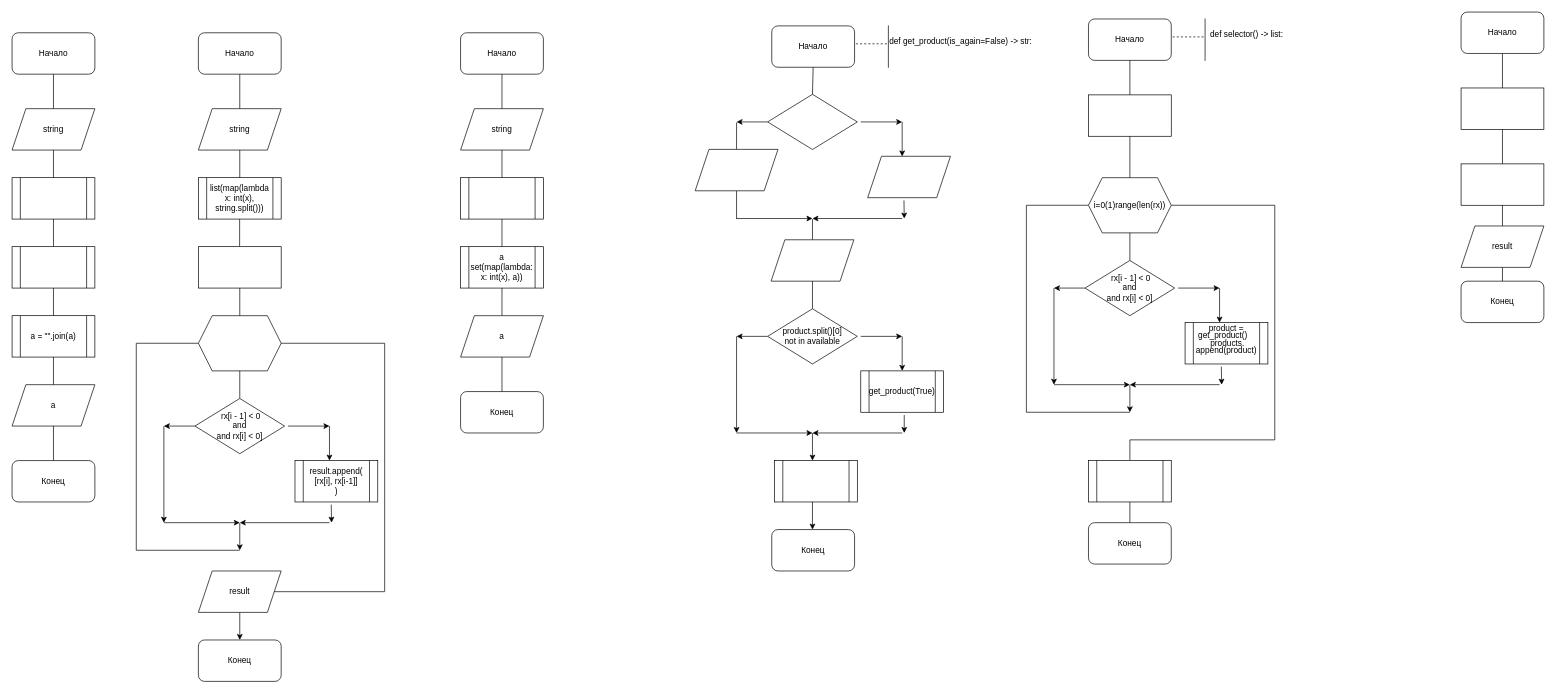
Some shapes in this 1556 by 693 pixel diagram are drawn without their labels. The centre of each missing label's shape, as x and y in pixels:
a = filter(lambda x: x != 'a', string ): point (53, 198)
a = list(a): point (53, 267)
a = string.split(): point (501, 198)
available = { "hello1": 10, "hello2": 20, }: point (1502, 108)
i=0(1)range(1, len(rx)): point (239, 343)
is_again: point (812, 122)
product: point (812, 260)
products = list(): point (1129, 115)
result = []: point (239, 267)
return product: point (815, 481)
return products: point (1129, 481)
value = selector() result = sum([available[i.split()[0]] for i in value]): point (1502, 184)
Введите продукт: point (736, 170)
Введите продукт снова: point (908, 177)
